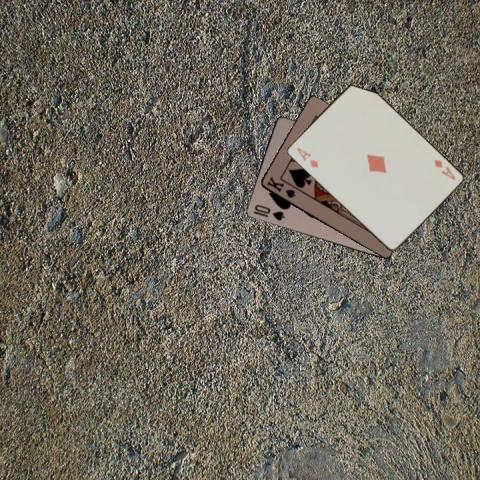10s: (252, 202, 286, 222)
Ad: (294, 144, 320, 169), (430, 157, 456, 181)
Ks: (263, 173, 297, 200)
